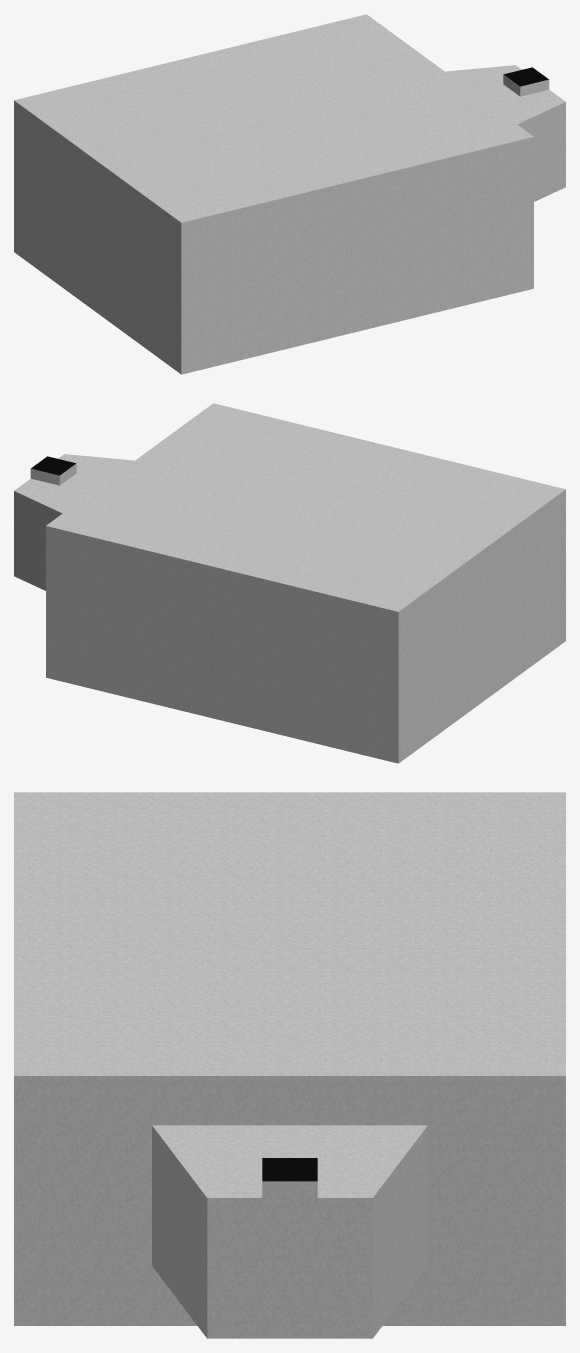
File: Shelter.fbx
3 views of the same model, one above another, from view 1: azimuth 30°, elevation 25°; view 2: azimuth 150°, elevation 25°; view 3: azimuth 270°, elevation 25° (orthographic). The views are drawn at different scales.
Visible parts, largest first — view 1: Group1; view 2: Group1; view 3: Group1.
Boxes of the visible parts, x1=… form: Group1: x1=14, y1=14, x2=565, y2=374; Group1: x1=14, y1=403, x2=565, y2=763; Group1: x1=14, y1=792, x2=565, y2=1338.
Bounding box in the file's own units: 153 × 50 × 100.
